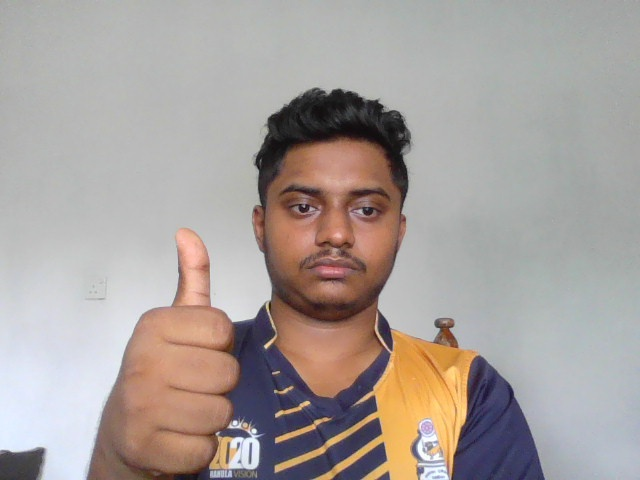Agree: (99, 225, 245, 480)
